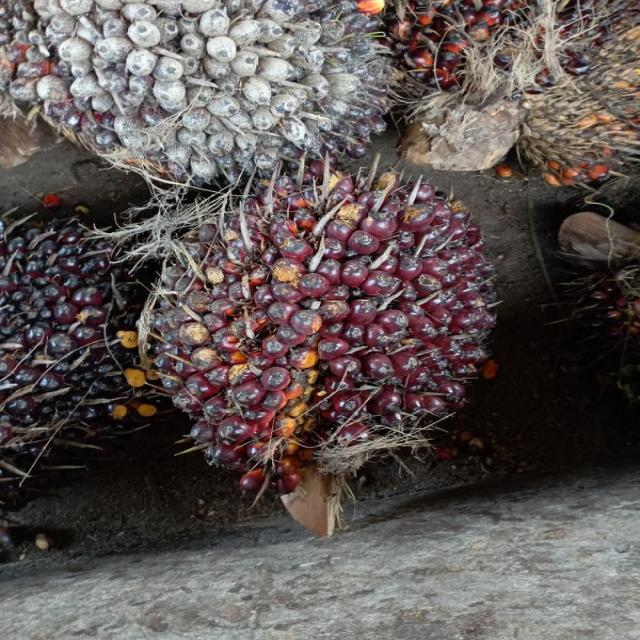fraksi 1: (139, 179, 509, 494)
